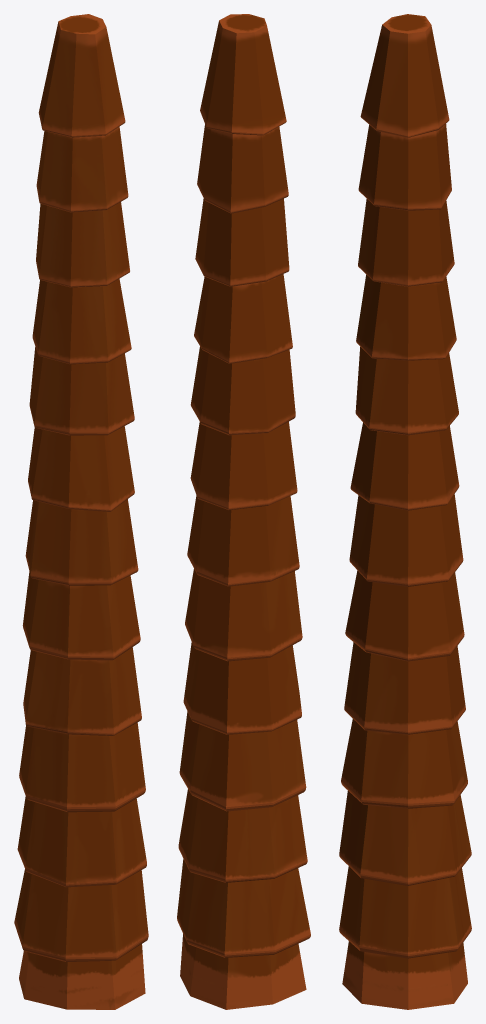
The model's file is Palm_Tree_Root.fbx.
3 renders of one model, left to right at view 1: azimuth 30°, elevation 25°; view 2: azimuth 210°, elevation 25°; view 3: azimuth 270°, elevation 25°, orthographic.
Parts seen in each view (by area): view 1: Palm_Tree_Root; view 2: Palm_Tree_Root; view 3: Palm_Tree_Root.
Part boxes in pixels (x1,y1,x2,y2): Palm_Tree_Root: [14, 14, 148, 1009]; Palm_Tree_Root: [177, 14, 310, 1009]; Palm_Tree_Root: [339, 14, 471, 1009].
Bounding box in the file's own units: 84.01 × 663 × 83.02.
